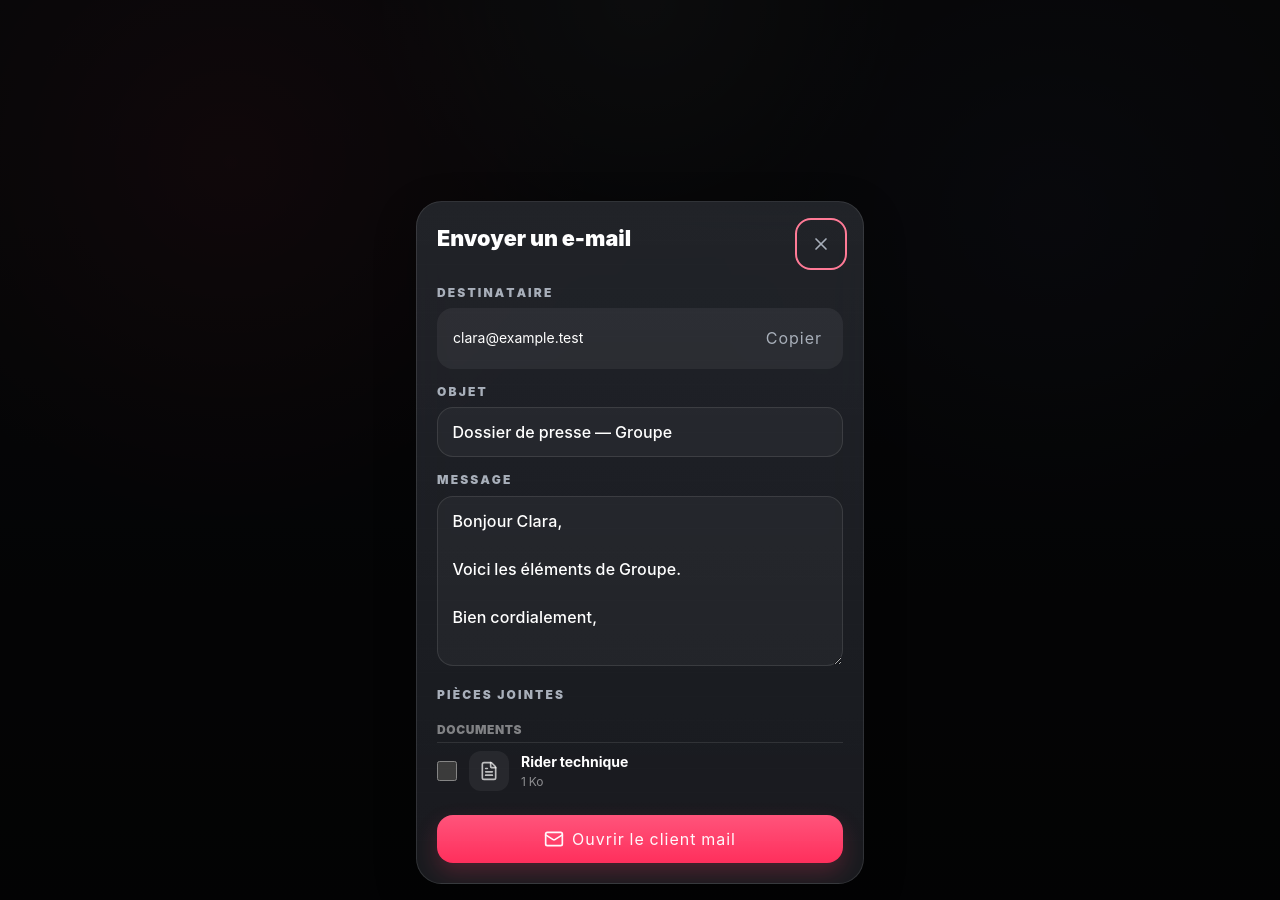
ContactEmailComposer › bascule vers le lien EPK si le téléchargement du fichier échoue
Step 1. Click the checkbox labelled "Rider technique 1 Ko" → point(447, 771), box [437,761,457,781]
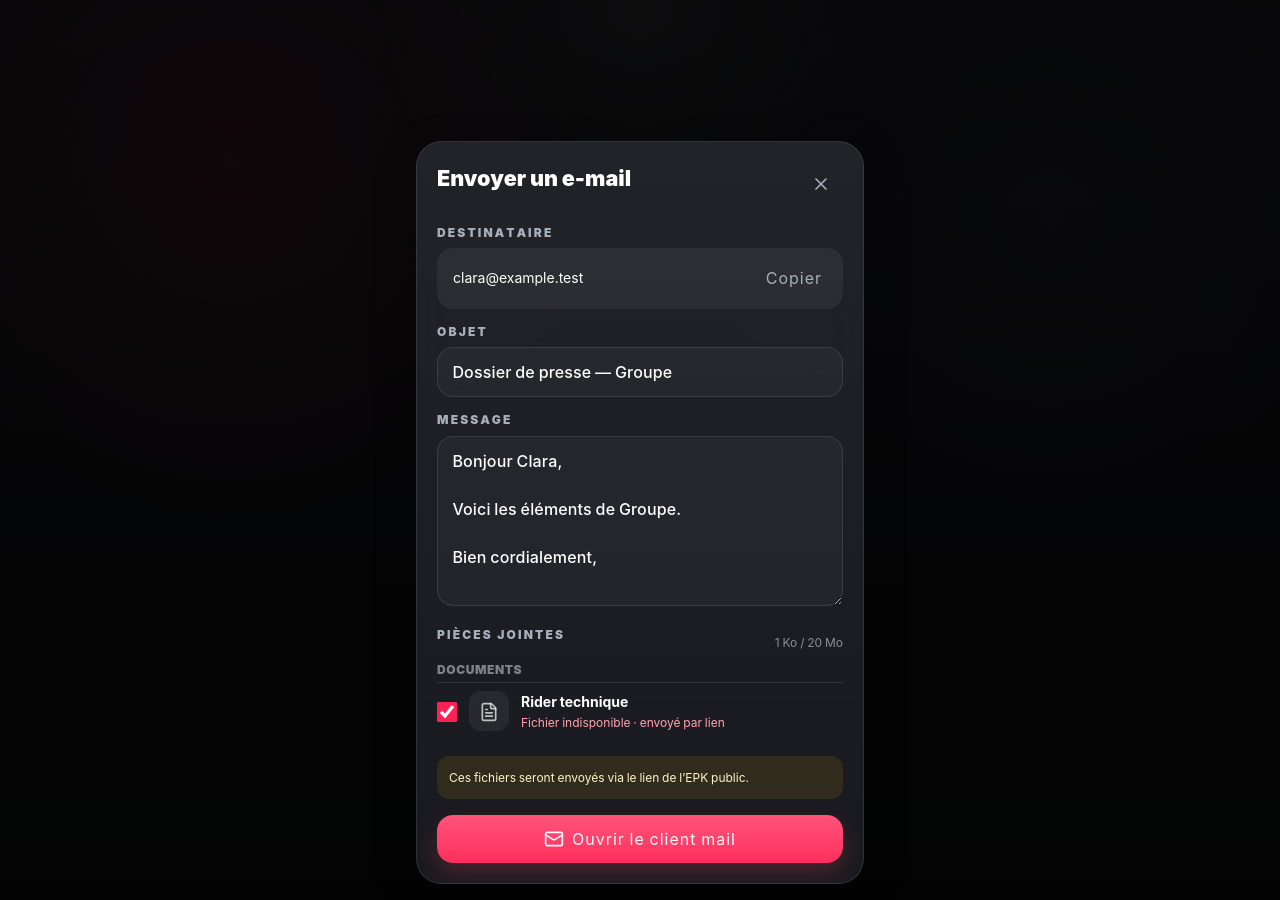
expect the button "Ouvrir le client mail" is enabled: met, box [437,815,843,863]
expect the text "Fichier indisponible · envoyé par lien" is shown: met, box [521,714,725,730]
expect the text "Ces fichiers seront envoyés via le lien de l’EPK public." is shown: met, box [437,756,843,799]
